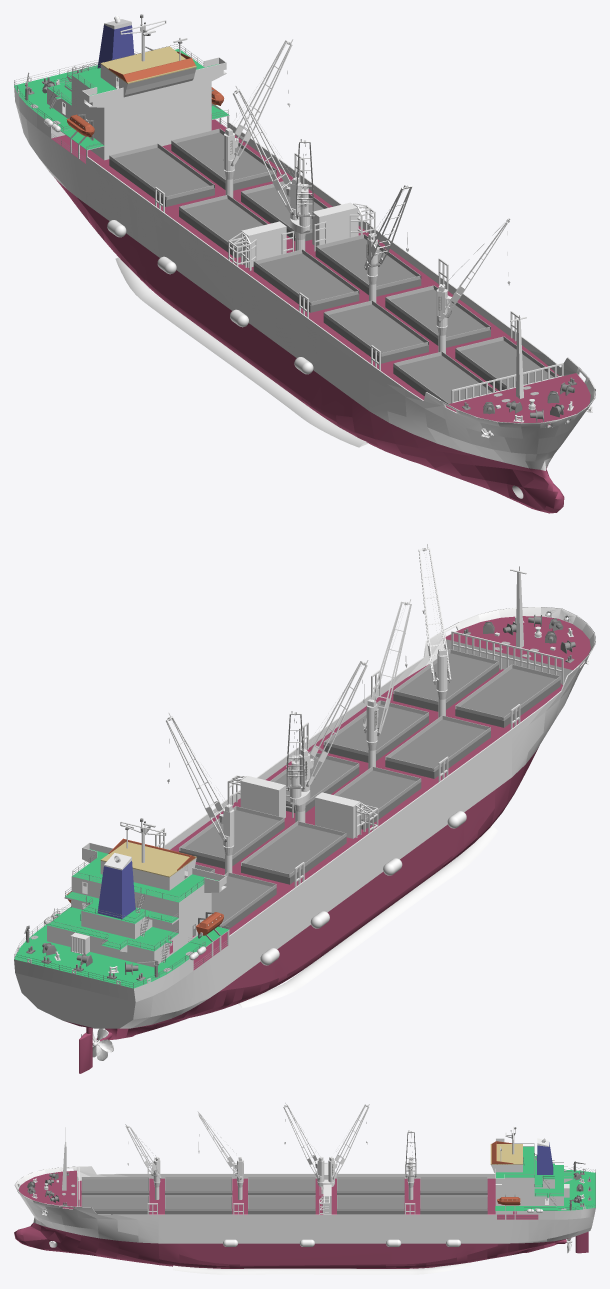
File: Ship_model.glb
3 views of the same model, one above another, from view 1: azimuth 30°, elevation 25°; view 2: azimuth 150°, elevation 25°; view 3: azimuth 270°, elevation 25° (orthographic). The views are drawn at different scales.
Parts seen in each view (by area): view 1: hatch cover (×10), mesh_14 (×5), Hull (×4), superstructure (×2), Main deck, bulwark, Bilge keel, Crane jib, forecastle deck, mesh_52, mesh_56, Deck crane (+6 smaller); view 2: hatch cover (×9), mesh_14 (×3), Hull (×4), mesh_56, bulwark, Main deck, superstructure (×4), Crane jib, Bilge keel, Transom stern, forecastle deck, mesh_52 (+8 smaller); view 3: mesh_14 (×13), hatch cover (×10), Hull (×4), bulwark, Main deck, mesh_56, Bilge keel, Crane jib, forecastle deck, superstructure, Deck crane, Bulwark (+9 smaller).
Part boxes in pixels (left/top/right/bottom): hatch cover (×10): left=109, top=132, right=553, bottom=403; mesh_14 (×5): left=67, top=150, right=485, bottom=444; Hull (×4): left=93, top=210, right=352, bottom=421; superstructure (×2): left=47, top=66, right=212, bottom=160; Main deck: left=51, top=119, right=559, bottom=400; bulwark: left=86, top=122, right=575, bottom=418; Bilge keel: left=115, top=257, right=368, bottom=447; Crane jib: left=233, top=40, right=510, bottom=321; forecastle deck: left=445, top=373, right=590, bottom=425; mesh_52: left=241, top=202, right=357, bottom=267; mesh_56: left=14, top=49, right=229, bottom=149; Deck crane: left=224, top=132, right=452, bottom=326; hatch cover (×9): left=179, top=653, right=560, bottom=929; mesh_14 (×3): left=209, top=712, right=545, bottom=997; Hull (×4): left=236, top=790, right=494, bottom=988; mesh_56: left=14, top=849, right=229, bottom=988; bulwark: left=161, top=638, right=576, bottom=944; Main deck: left=169, top=664, right=562, bottom=970; superstructure (×4): left=47, top=876, right=211, bottom=967; Crane jib: left=166, top=548, right=450, bottom=840; Bilge keel: left=238, top=826, right=498, bottom=1007; Transom stern: left=15, top=973, right=135, bottom=1028; forecastle deck: left=445, top=616, right=590, bottom=669; mesh_52: left=240, top=776, right=359, bottom=838; mesh_14 (×13): left=45, top=1206, right=593, bottom=1243; hatch cover (×10): left=81, top=1179, right=487, bottom=1214; Hull (×4): left=61, top=1236, right=497, bottom=1268; bulwark: left=77, top=1170, right=495, bottom=1219; Main deck: left=78, top=1178, right=538, bottom=1219; mesh_56: left=495, top=1146, right=595, bottom=1210; Bilge keel: left=173, top=1262, right=470, bottom=1274; Crane jib: left=125, top=1104, right=416, bottom=1178; forecastle deck: left=18, top=1170, right=76, bottom=1208; superstructure: left=495, top=1178, right=563, bottom=1205; Deck crane: left=151, top=1159, right=414, bottom=1182; Bulwark: left=14, top=1166, right=94, bottom=1210.
Size of the model in its own units: 32.54 by 44.55 by 167.
